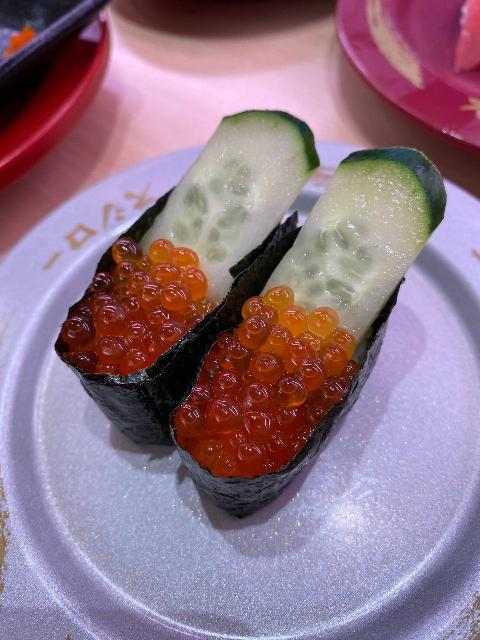janred: (346, 0, 480, 142), (0, 5, 105, 175)
janwhite: (0, 154, 480, 628)
